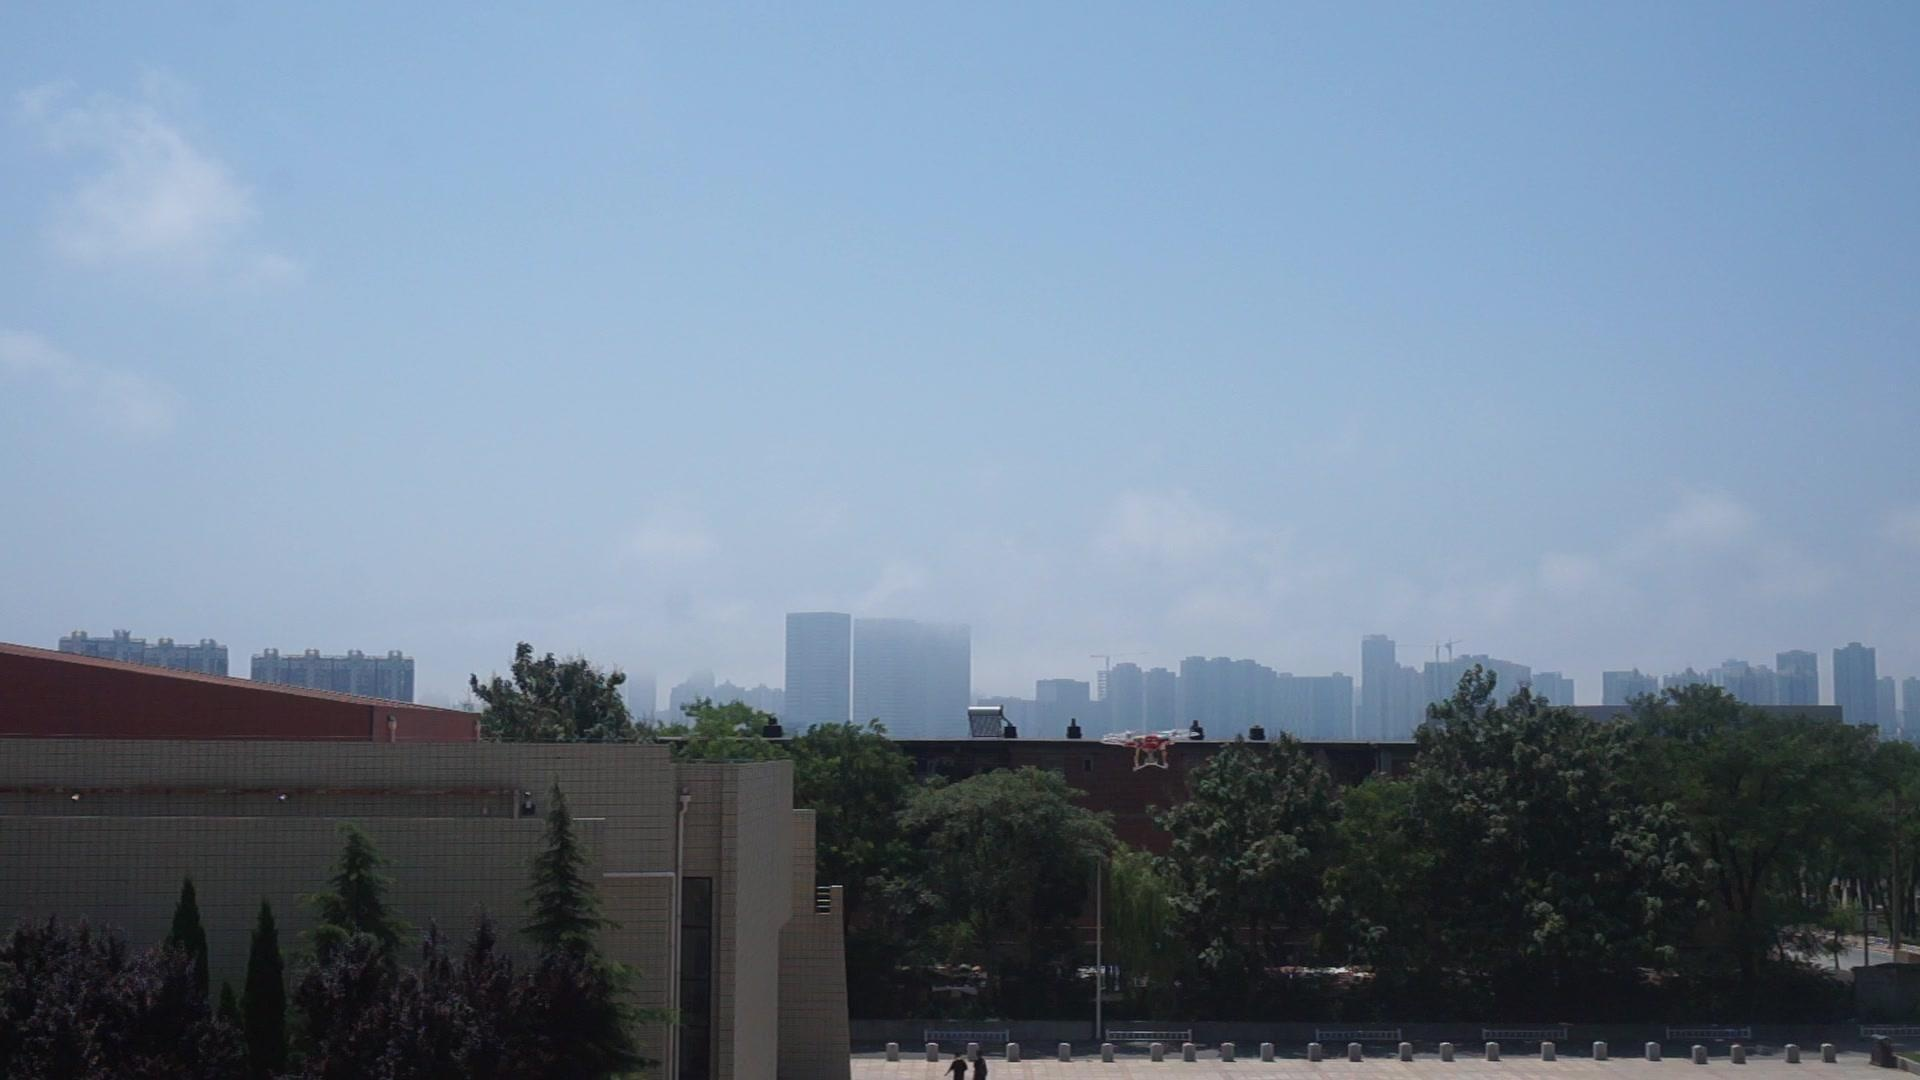UAV: (1101, 731, 1201, 774)
